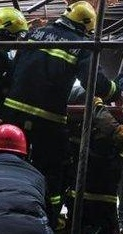gloves: (91, 105, 118, 139), (114, 105, 123, 122)
hard-hat: (0, 123, 28, 155)
ppe-suit: (15, 27, 82, 176)
